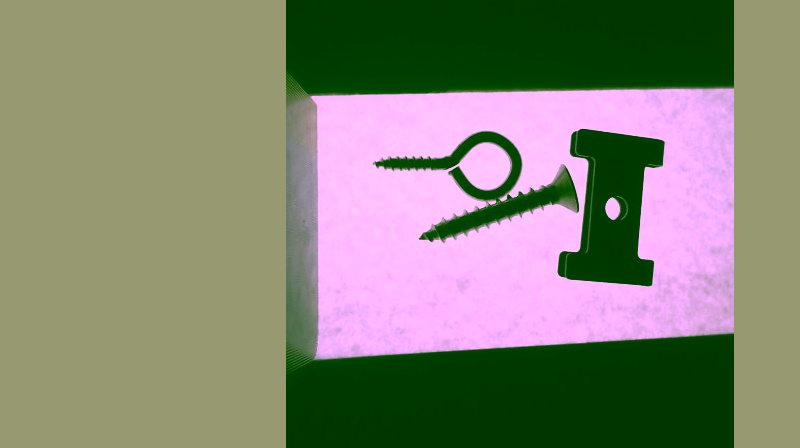O001: (369, 123, 526, 204)
O002: (553, 123, 667, 288)
S001: (414, 159, 582, 242)
